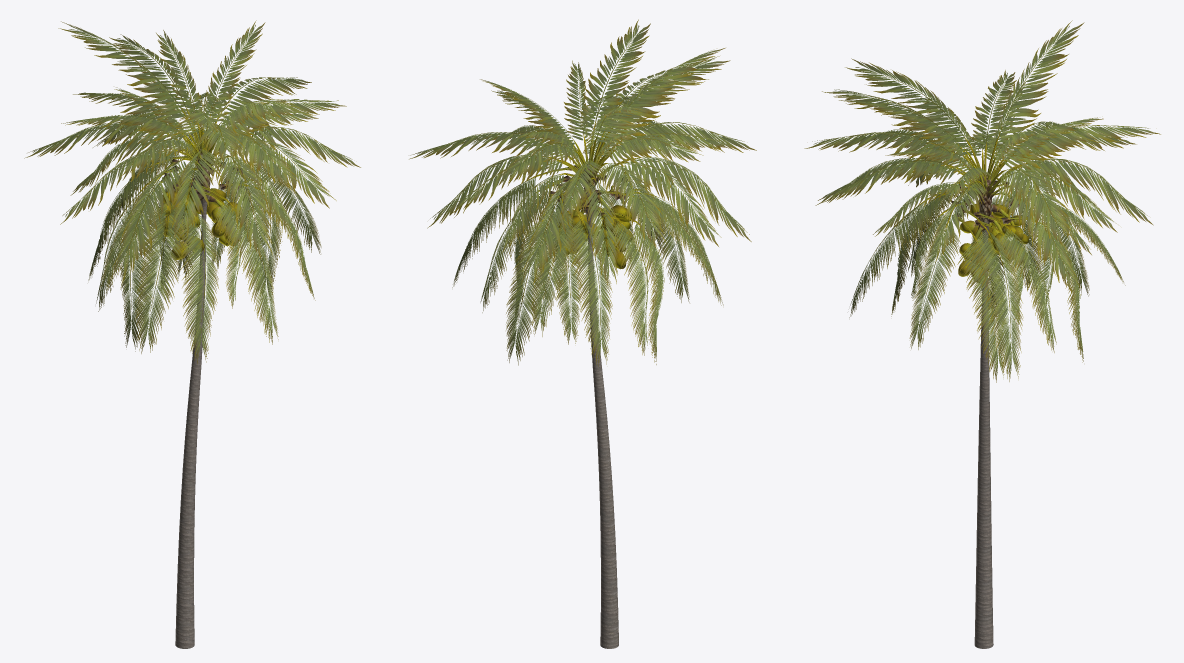
Rendered from coconut.fbx.
The picture shows the model from 3 angles, left to right: view 1: azimuth 30°, elevation 25°; view 2: azimuth 150°, elevation 25°; view 3: azimuth 270°, elevation 25°; orthographic projection. The views are drawn at different scales.
Visible parts, largest first — view 1: coconut palm leaf 1_4, palm02_0, coconut 2_3, frond stem_2; view 2: coconut palm leaf 1_4, palm02_0, frond stem_2, coconut 2_3; view 3: coconut palm leaf 1_4, palm02_0, frond stem_2, coconut 2_3.
Part boxes in pixels (box(x1,y1,x2,y2)): coconut palm leaf 1_4: box(24, 20, 360, 363); palm02_0: box(175, 202, 207, 648); coconut 2_3: box(159, 178, 242, 259); frond stem_2: box(138, 107, 261, 243); coconut palm leaf 1_4: box(409, 19, 756, 366); palm02_0: box(586, 216, 618, 648); frond stem_2: box(525, 121, 658, 242); coconut 2_3: box(556, 205, 632, 269); coconut palm leaf 1_4: box(804, 20, 1160, 382); palm02_0: box(974, 228, 993, 648); frond stem_2: box(918, 133, 1046, 262); coconut 2_3: box(958, 199, 1028, 283).
Size of the model in its own units: 1070 by 2045 by 1183.
